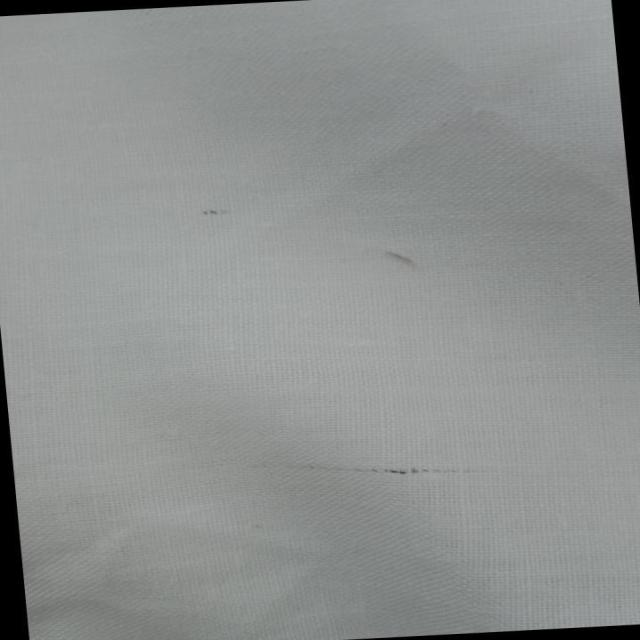contamination: (227, 445, 487, 499), (193, 204, 239, 221)
